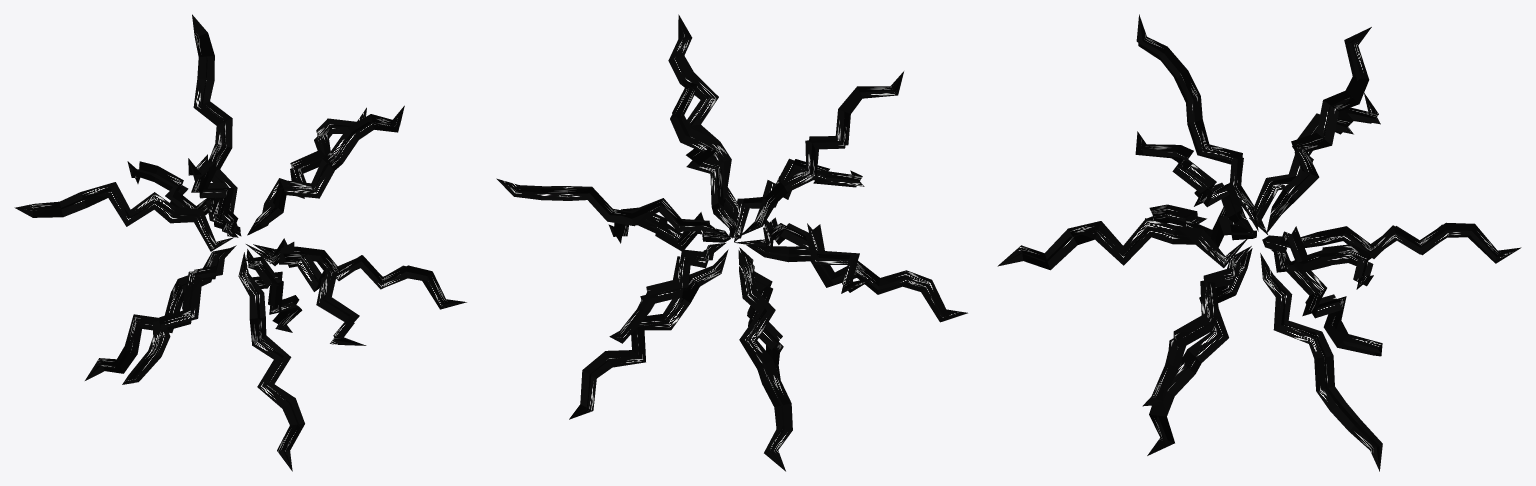
The model's file is LightningC.fbx.
3 views of the same model, side by side, from view 1: azimuth 30°, elevation 25°; view 2: azimuth 150°, elevation 25°; view 3: azimuth 270°, elevation 25° (orthographic). The views are drawn at different scales.
Visible parts, largest first — view 1: SM_EFF_Lightning_C_01.mo; view 2: SM_EFF_Lightning_C_01.mo; view 3: SM_EFF_Lightning_C_01.mo.
Part boxes in pixels (x1,y1,x2,y2): SM_EFF_Lightning_C_01.mo: [14, 14, 466, 471]; SM_EFF_Lightning_C_01.mo: [496, 14, 967, 471]; SM_EFF_Lightning_C_01.mo: [997, 14, 1521, 471].
Size of the model in its own units: 120 by 123 by 136.
